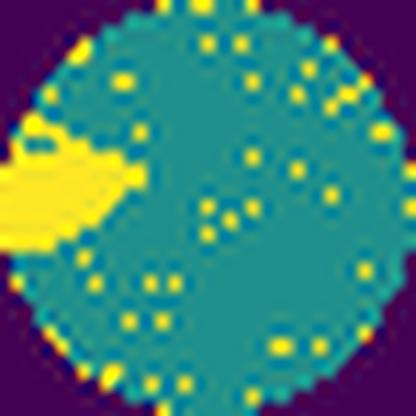Loc: (0, 112, 154, 253)
